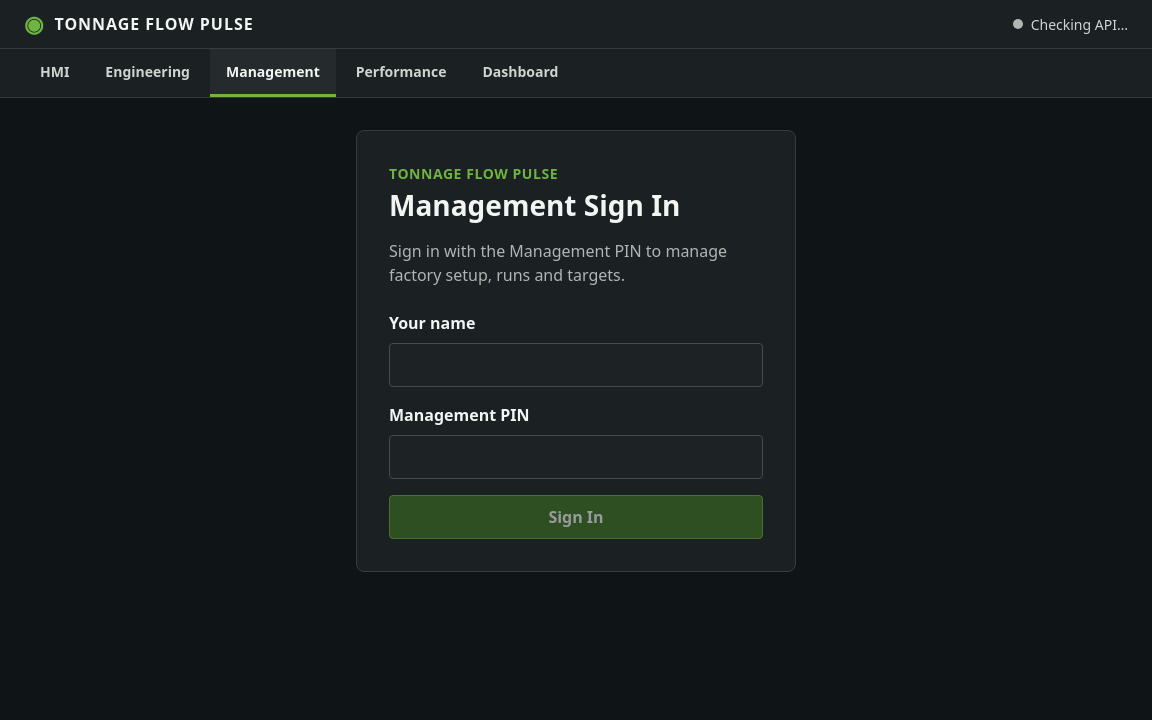
Test: Management sign-in › shows a safe message for HTTP 429
This screenshot has width=1152, height=720.
In the field labelled "Your name": (576, 365) [389, 343, 763, 387], type "Kuri"
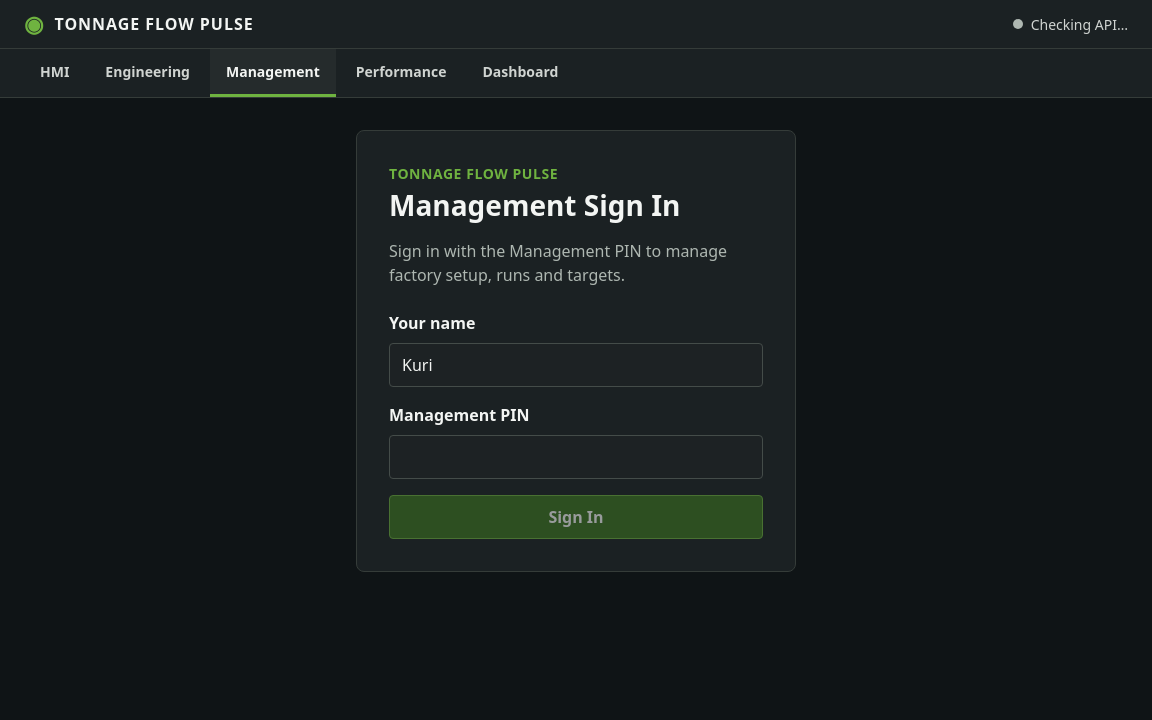
In the password field labelled "Management PIN": (576, 457) [389, 435, 763, 479], type "1234"
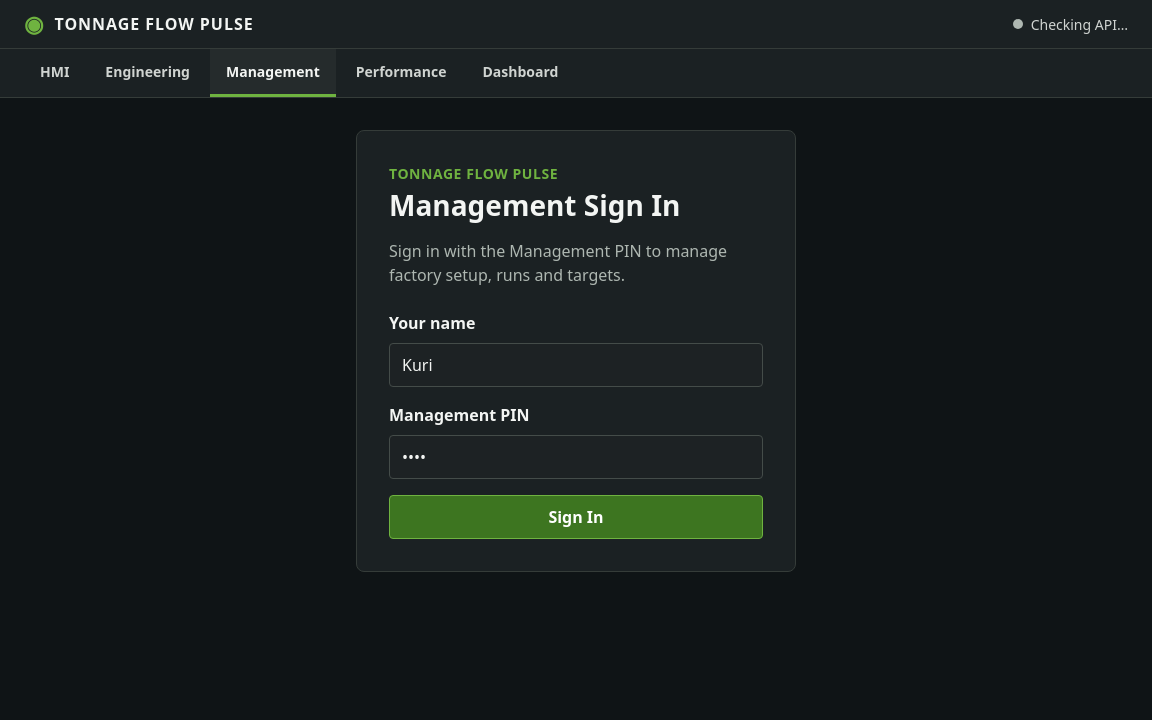
Click the button "Sign In": click(576, 517) [389, 495, 763, 539]
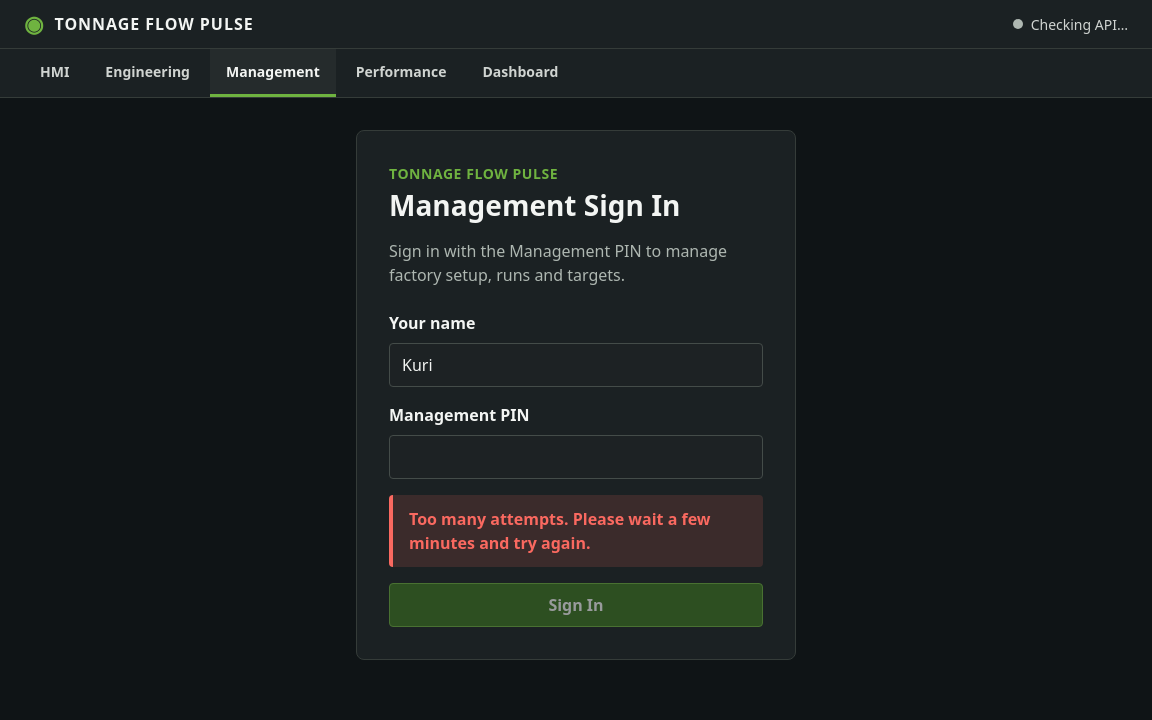
Check: the heading "Management Sign In" is shown, box [389, 186, 680, 224]
Check: the message "Too many attempts. Please wait a few minutes and try again." is shown, box [389, 495, 763, 567]
